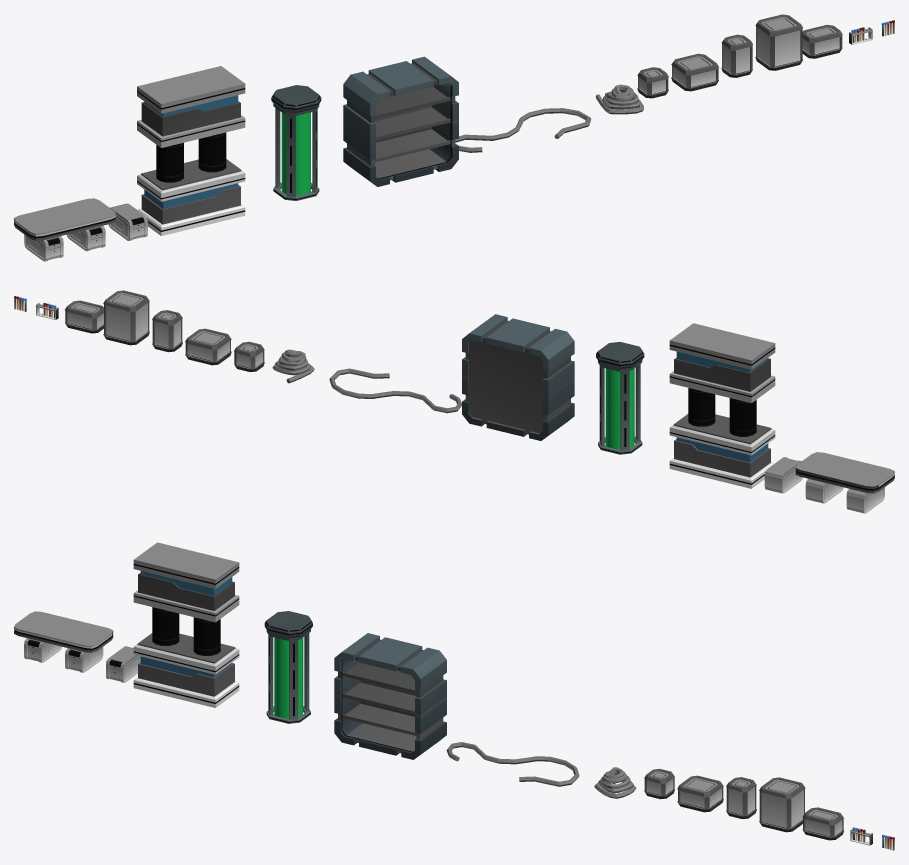
File: PropsLab01.fbx
The picture shows the model from 3 angles, top to bottom: view 1: azimuth 30°, elevation 25°; view 2: azimuth 150°, elevation 25°; view 3: azimuth 330°, elevation 25°; orthographic projection. The views are drawn at different scales.
Visible parts, largest first — view 1: Box012, Box014, Box013, Box009, Box021, Cylinder022, Box019, Box010, Box020, Line005, Box017, Box011 (+2 smaller); view 2: Box012, Box014, Box013, Box009, Box021, Cylinder022, Box019, Box010, Line005, Box020, Box017, Box011 (+2 smaller); view 3: Box012, Box014, Box013, Box009, Box021, Cylinder022, Box019, Box010, Line005, Box020, Box017, Box011 (+2 smaller).
Boxes of the visible parts, x1=… form: Box012: x1=137, y1=66, x2=245, y2=235; Box014: x1=343, y1=56, x2=458, y2=186; Box013: x1=271, y1=85, x2=321, y2=200; Box009: x1=14, y1=198, x2=115, y2=240; Box021: x1=755, y1=14, x2=802, y2=70; Cylinder022: x1=281, y1=112, x2=310, y2=195; Box019: x1=671, y1=53, x2=718, y2=91; Box010: x1=24, y1=226, x2=105, y2=261; Box020: x1=721, y1=34, x2=752, y2=77; Line005: x1=455, y1=108, x2=591, y2=152; Box017: x1=802, y1=25, x2=842, y2=58; Box011: x1=108, y1=203, x2=147, y2=240; Box012: x1=669, y1=323, x2=775, y2=488; Box014: x1=462, y1=314, x2=574, y2=440; Box013: x1=596, y1=342, x2=644, y2=454; Box009: x1=795, y1=452, x2=894, y2=493; Box021: x1=103, y1=290, x2=149, y2=345; Cylinder022: x1=605, y1=368, x2=634, y2=449; Box019: x1=185, y1=328, x2=231, y2=365; Box010: x1=805, y1=479, x2=884, y2=513; Line005: x1=329, y1=368, x2=461, y2=413; Box020: x1=152, y1=310, x2=182, y2=352; Box017: x1=65, y1=300, x2=103, y2=333; Box011: x1=764, y1=457, x2=802, y2=493; Box012: x1=133, y1=542, x2=239, y2=707; Box014: x1=334, y1=633, x2=446, y2=759; Box013: x1=264, y1=611, x2=312, y2=723; Box009: x1=14, y1=611, x2=113, y2=652; Box021: x1=759, y1=777, x2=805, y2=832; Cylinder022: x1=274, y1=637, x2=303, y2=718; Box019: x1=677, y1=775, x2=723, y2=812; Box010: x1=24, y1=638, x2=103, y2=672; Line005: x1=446, y1=742, x2=579, y2=786; Box020: x1=726, y1=777, x2=756, y2=819; Box017: x1=802, y1=807, x2=843, y2=840; Box011: x1=106, y1=646, x2=140, y2=682.
Size of the model in its own units: 414 by 60.13 by 28.11.
3 materials, 1 textured.
